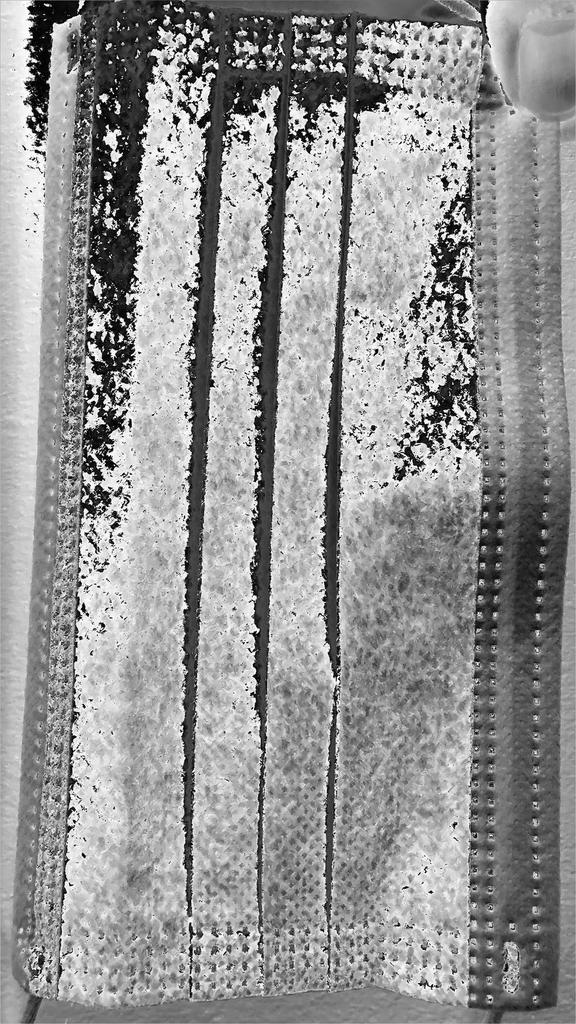High GSM: (39, 4, 483, 1009)
